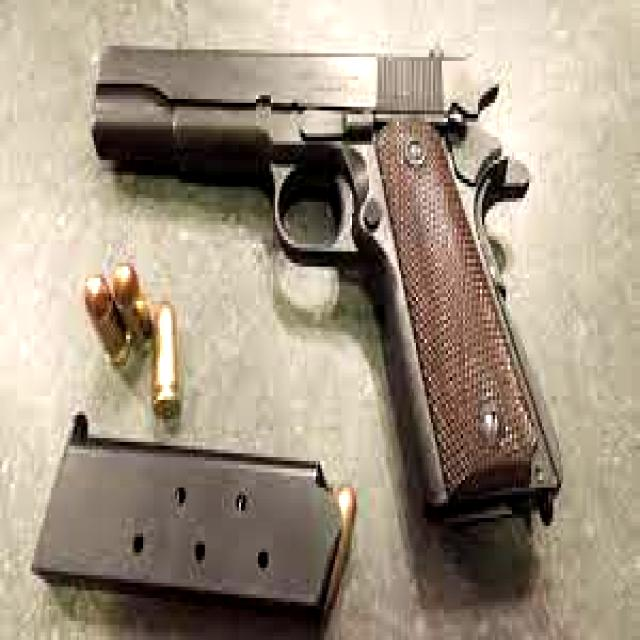semi automatic: (26, 31, 576, 632)
